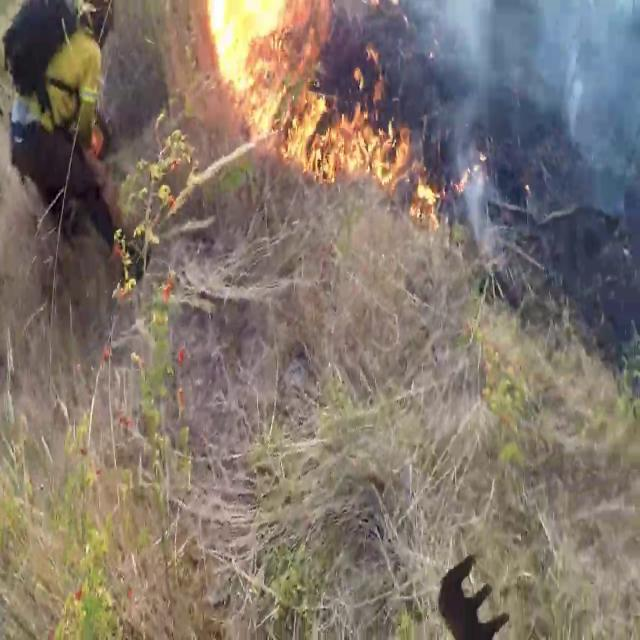Fire: (186, 1, 412, 192)
Smoke: (427, 0, 640, 226)
